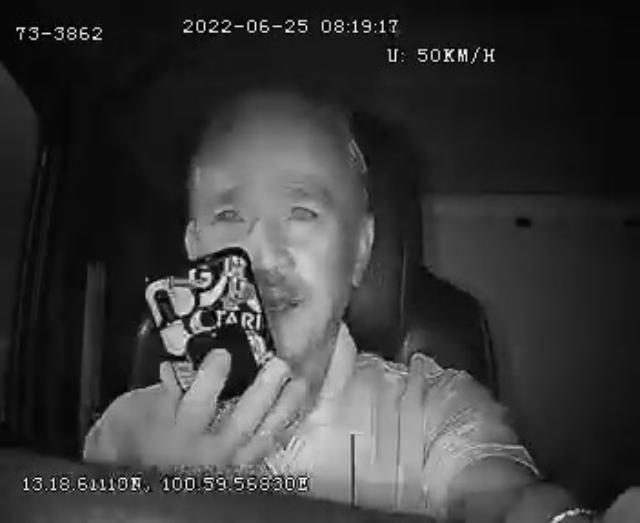PhoneUse: (144, 247, 278, 406)
SafeDriving: (279, 186, 329, 234), (204, 192, 254, 234)
